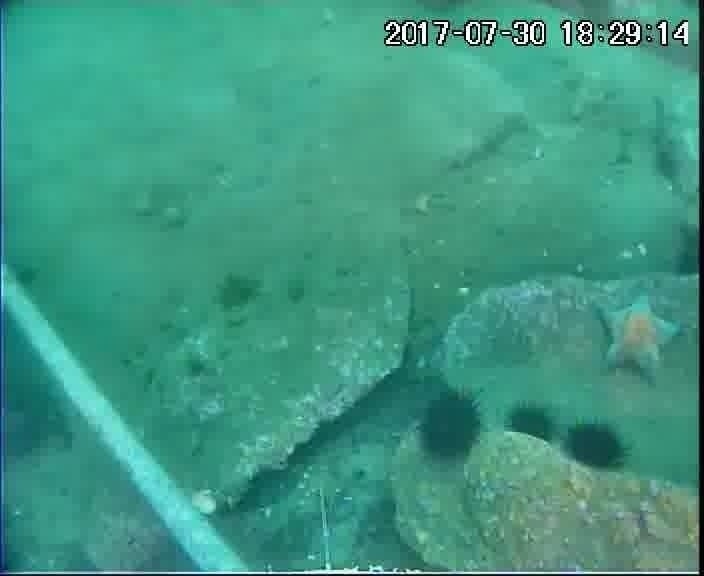echinus: (414, 387, 486, 465), (560, 418, 631, 476), (503, 401, 560, 451), (668, 220, 704, 287)
starfish: (590, 292, 685, 386)
